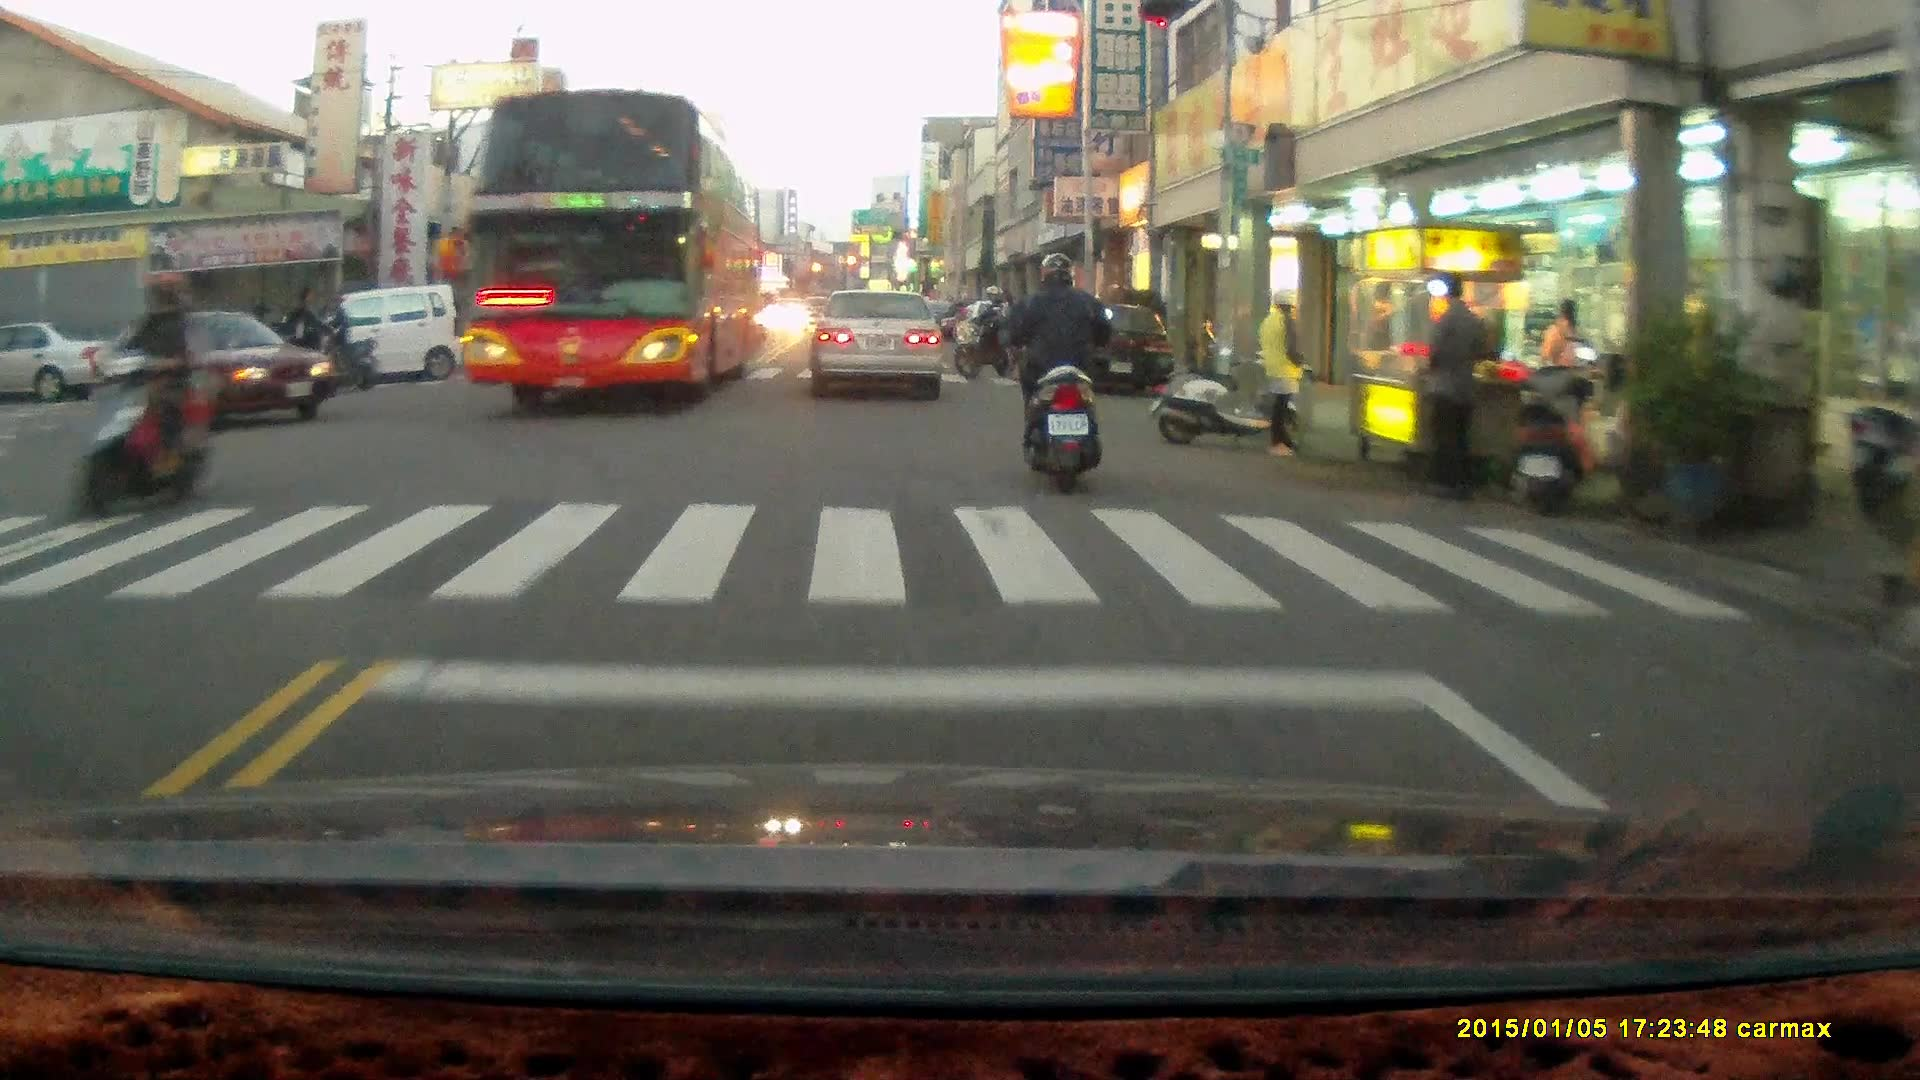pedestrian: (1424, 270, 1489, 499), (1537, 299, 1592, 483), (1259, 285, 1308, 458)
rider: (63, 270, 210, 523), (999, 244, 1114, 489), (263, 285, 362, 394), (297, 291, 372, 389), (949, 288, 1018, 385)
vehicle: (460, 81, 765, 410), (88, 309, 335, 426), (808, 287, 946, 401), (316, 286, 466, 387), (1048, 300, 1177, 401), (1, 318, 105, 406)
